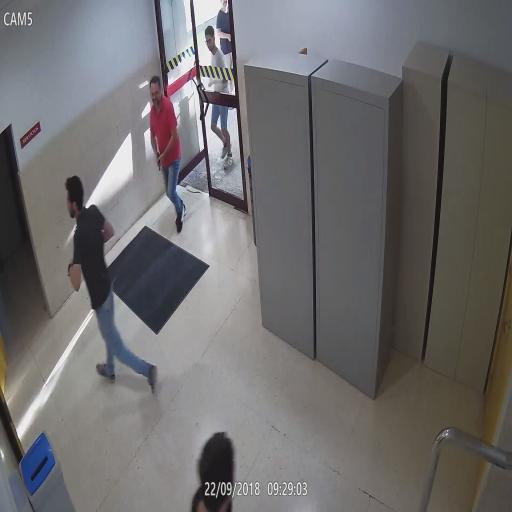Handgun: (154, 150, 162, 172)
